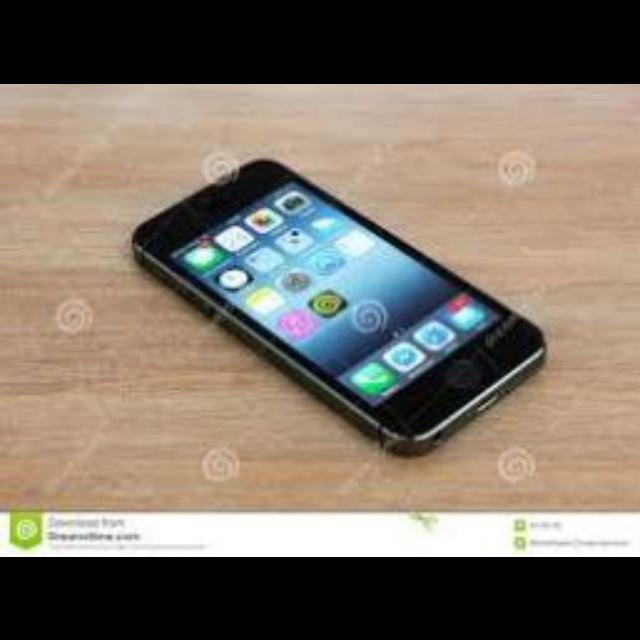Phone: (134, 159, 548, 455)
